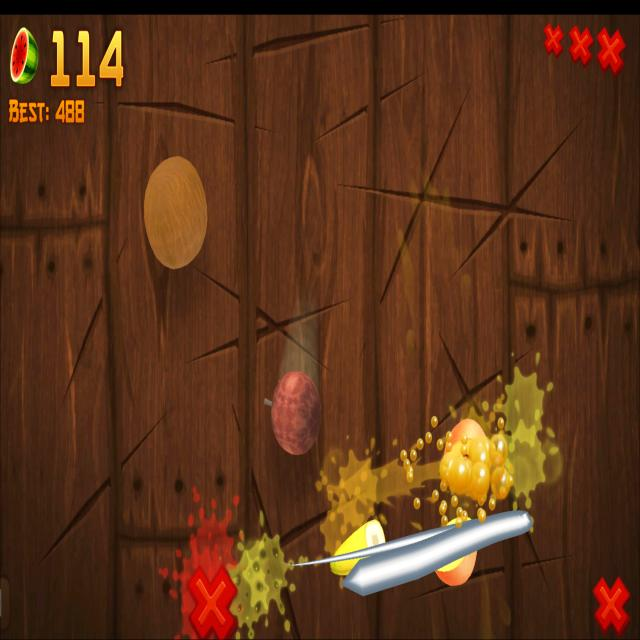fruit: (142, 154, 208, 270), (270, 369, 322, 458)
